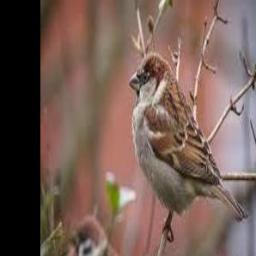Sparrow: (129, 51, 247, 239)
